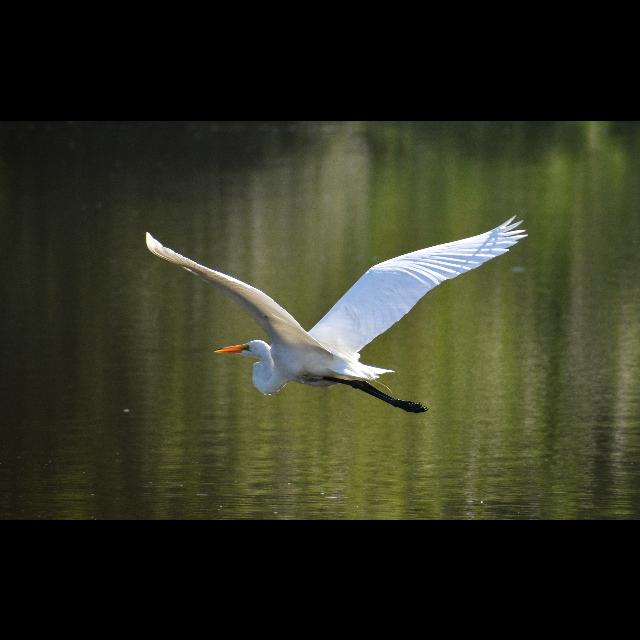egret: (143, 214, 529, 413)
